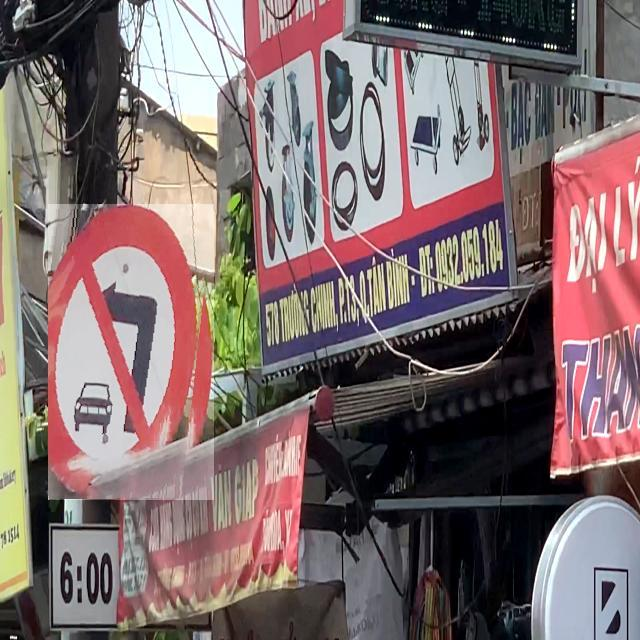P-123a: (48, 204, 214, 500)
